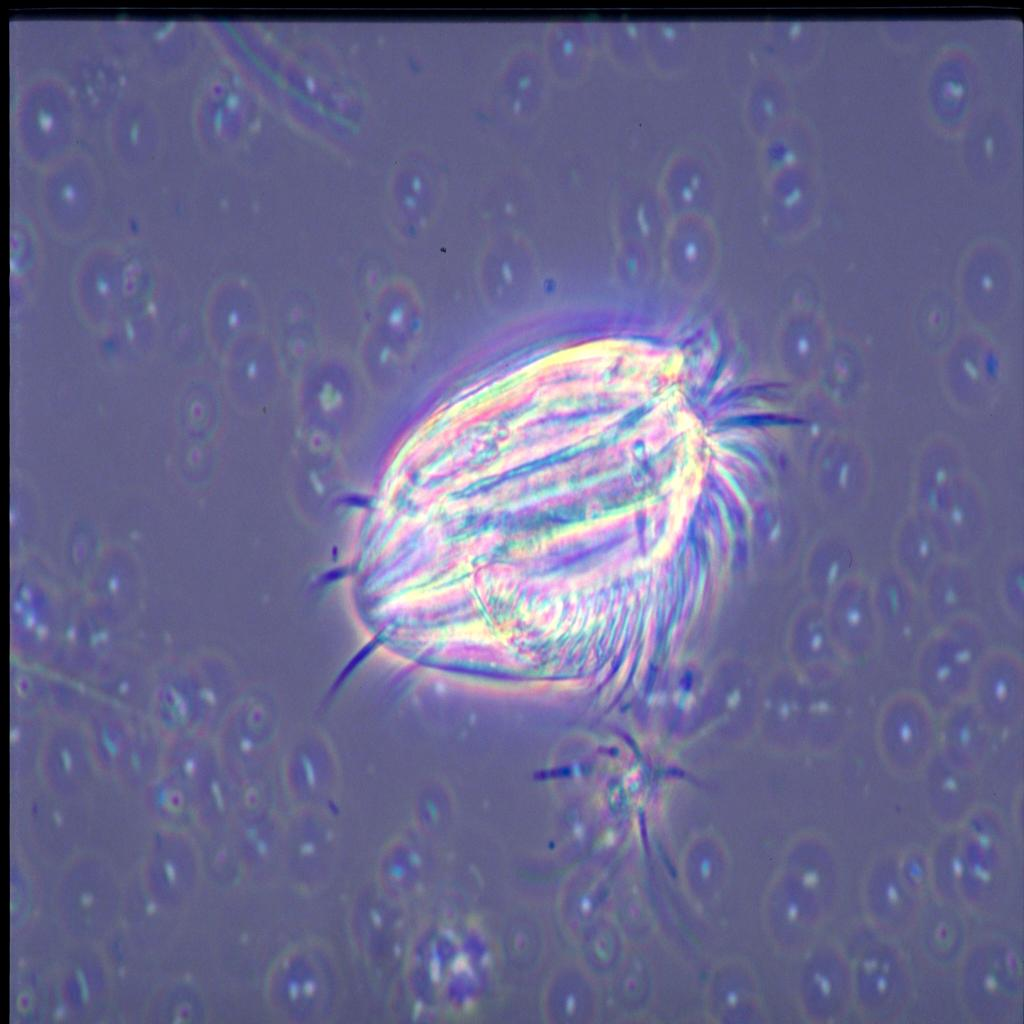Euplotes: (290, 306, 802, 754)
